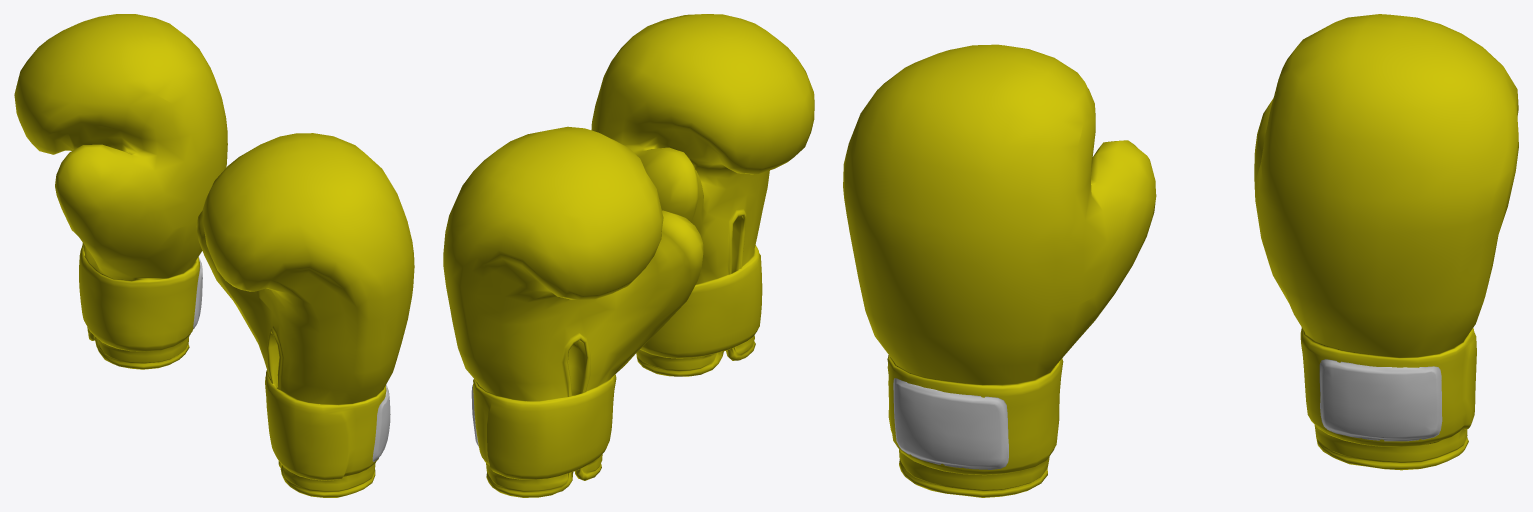
File: Gloves.fbx
3 views of the same model, side by side, from view 1: azimuth 30°, elevation 25°; view 2: azimuth 150°, elevation 25°; view 3: azimuth 270°, elevation 25° (orthographic). The views are drawn at different scales.
Parts seen in each view (by area): view 1: Gloves_Lef, Gloves_Right; view 2: Gloves_Right, Gloves_Lef; view 3: Gloves_Lef, Gloves_Right.
Part boxes in pixels (x1,y1,x2,y2): Gloves_Lef: [196, 133, 414, 497]; Gloves_Right: [14, 14, 227, 369]; Gloves_Right: [443, 126, 703, 497]; Gloves_Lef: [591, 14, 814, 376]; Gloves_Lef: [843, 44, 1156, 497]; Gloves_Right: [1254, 14, 1518, 470].
Size of the model in its own units: 415 by 616 by 898.
